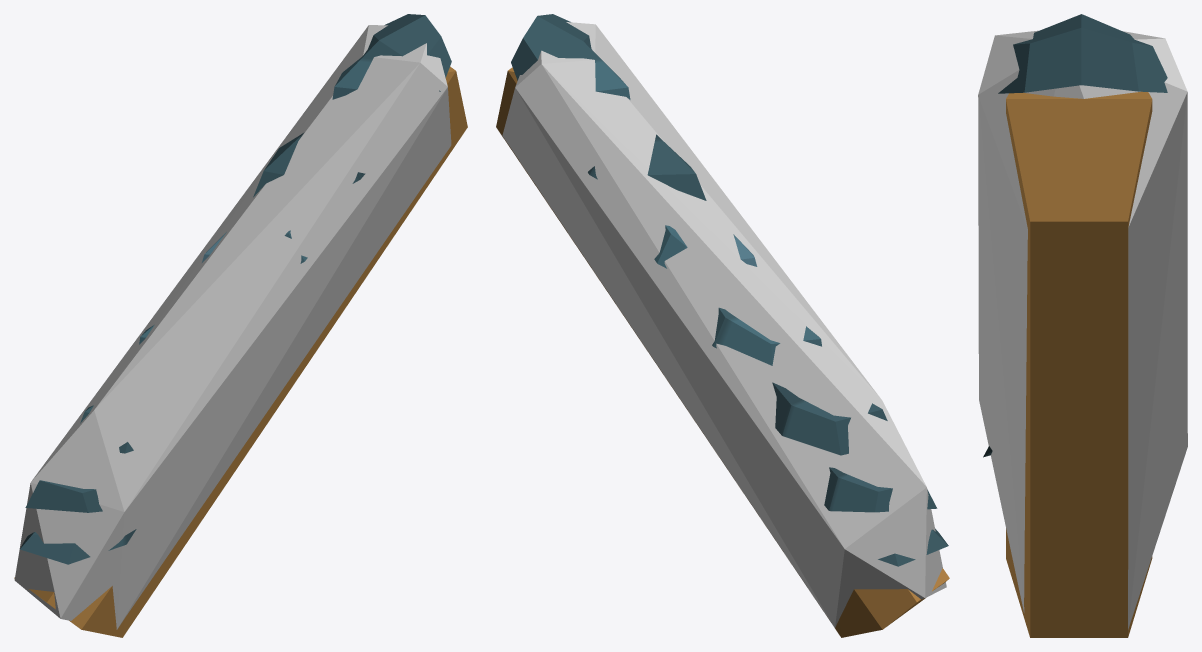
File: SM_Bld_Roof_End_Straight_Small_01.fbx
The picture shows the model from 3 angles, left to right: view 1: azimuth 30°, elevation 25°; view 2: azimuth 150°, elevation 25°; view 3: azimuth 270°, elevation 25°; orthographic projection. The views are drawn at different scales.
Visible parts, largest first — view 1: SM_Bld_Roof_End_Straight_Small_01_ConvexHulls, SM_Bld_Roof_End_Straight_Small_01; view 2: SM_Bld_Roof_End_Straight_Small_01_ConvexHulls, SM_Bld_Roof_End_Straight_Small_01; view 3: SM_Bld_Roof_End_Straight_Small_01, SM_Bld_Roof_End_Straight_Small_01_ConvexHulls.
Boxes of the visible parts, left/top/right/bottom form: SM_Bld_Roof_End_Straight_Small_01_ConvexHulls: left=14, top=25, right=451, bottom=629; SM_Bld_Roof_End_Straight_Small_01: left=14, top=14, right=467, bottom=637; SM_Bld_Roof_End_Straight_Small_01_ConvexHulls: left=502, top=22, right=946, bottom=627; SM_Bld_Roof_End_Straight_Small_01: left=496, top=14, right=949, bottom=637; SM_Bld_Roof_End_Straight_Small_01: left=983, top=14, right=1167, bottom=637; SM_Bld_Roof_End_Straight_Small_01_ConvexHulls: left=978, top=30, right=1187, bottom=629.
Size of the model in its own units: 158 by 40.94 by 186.
Materials: 2 (1 with a texture image).
